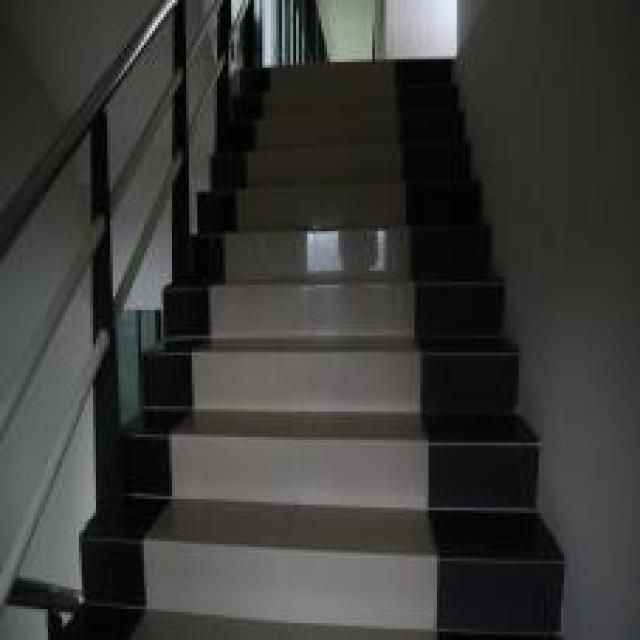upstair: (232, 60, 483, 638)
